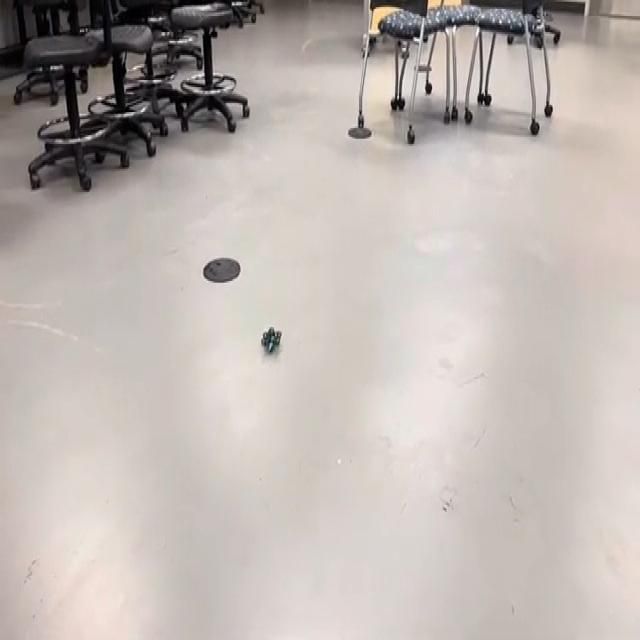drone: (253, 313, 286, 368)
